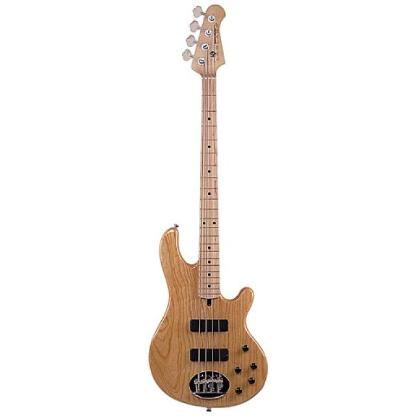bass: (149, 5, 269, 413)
